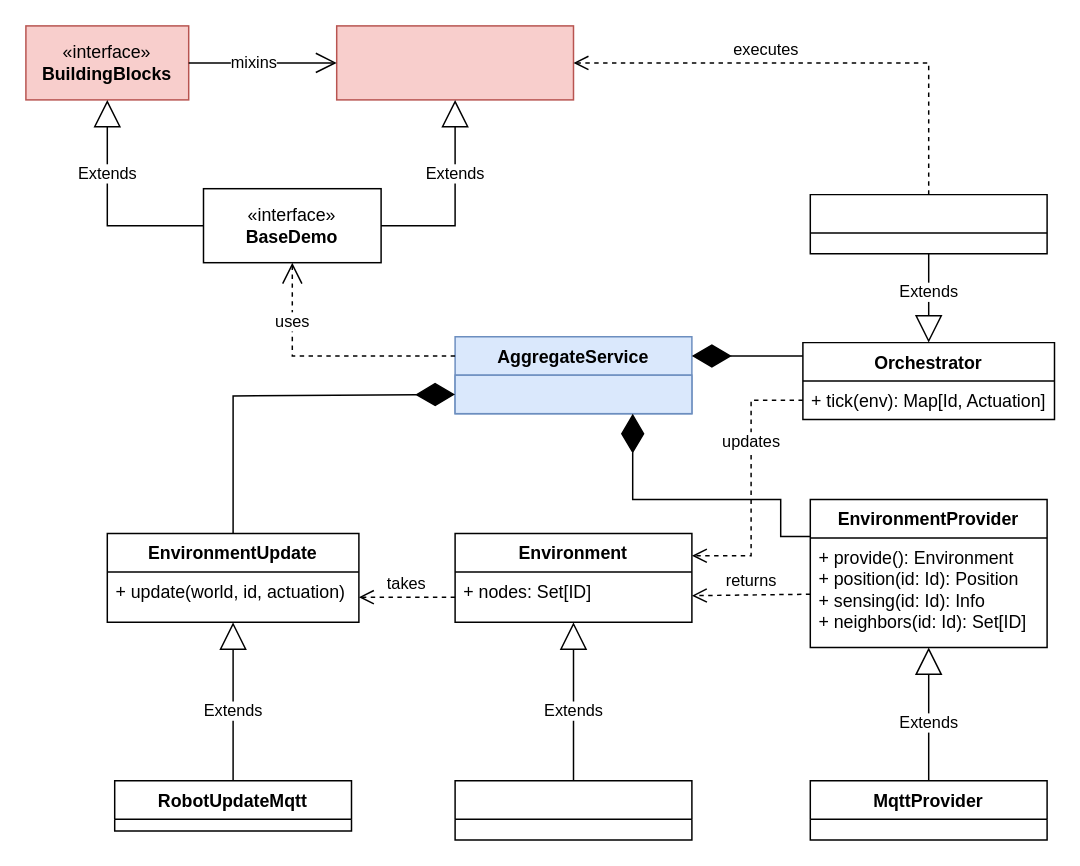
This 1080x866 diagram has some shape labels left out. The shapes that lost their labels are listed below. From the top down, each one's box as (x1, y1, x2, y2) in pixels, then its label:
(335, 24, 574, 100): «interface» AggregateIncarnation
(809, 193, 1047, 254): AggregateOrchestrator
(454, 374, 692, 414): + run()
(454, 779, 692, 840): MqttEnvironment
